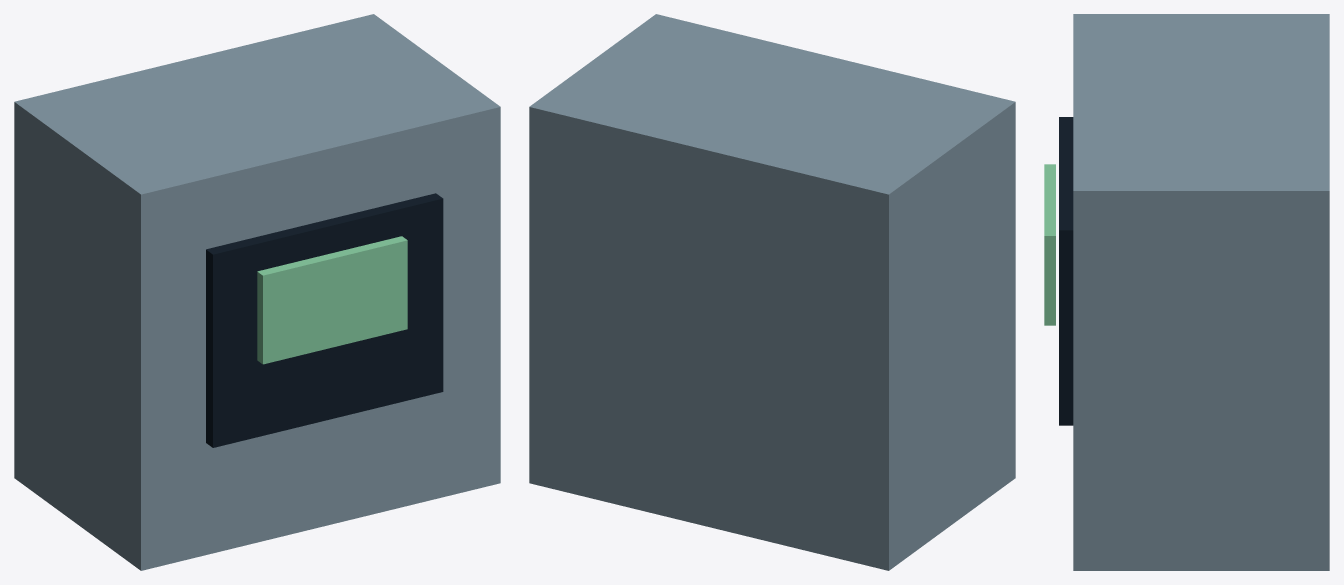
The model's file is item-dosimeter.glb.
3 views of the same model, side by side, from view 1: azimuth 30°, elevation 25°; view 2: azimuth 150°, elevation 25°; view 3: azimuth 270°, elevation 25° (orthographic).
Visible parts, largest first — view 1: package, label, display; view 2: package; view 3: package, label, display.
Boxes of the visible parts, x1,y1,x2,y2 form: package: (14,14,500,570); label: (206,193,443,447); display: (257,236,407,364); package: (529,14,1015,570); package: (1073,14,1329,570); label: (1059,117,1073,425); display: (1044,164,1055,325).
Bounding box in the file's own units: 0.72 × 0.72 × 0.49.
